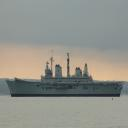Portanaves: (6, 47, 125, 99)
